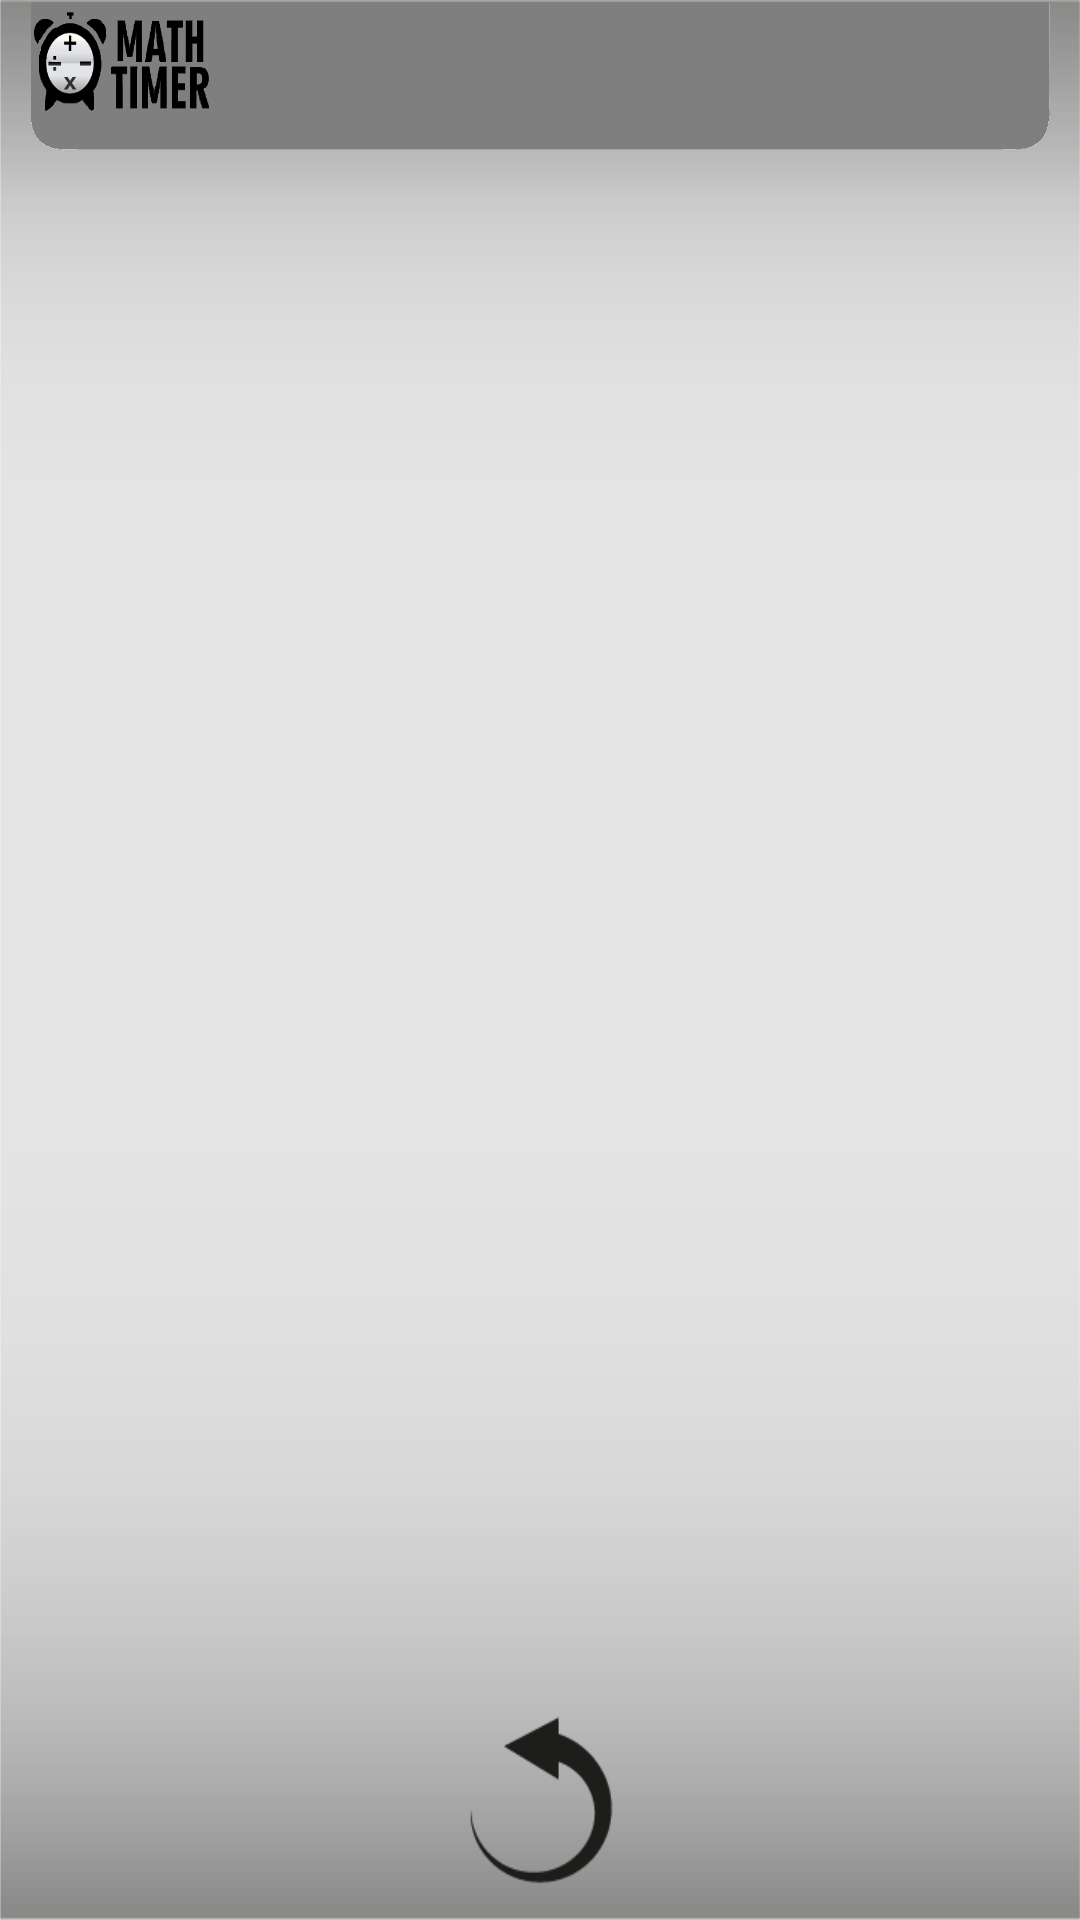

Icon bounding boxes for this 1080*1920 phone screenshot, format bbox(x1, y1, x2, y2):
voltar: bbox(420, 1717, 660, 1918)
